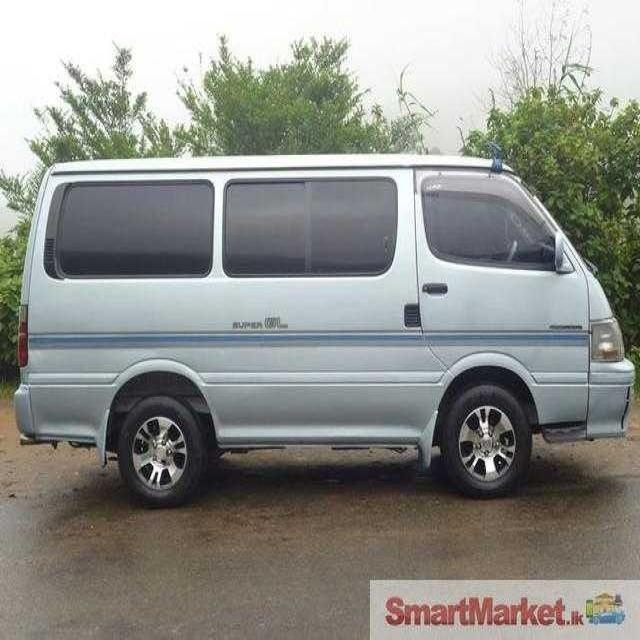Van: (16, 154, 636, 506)
